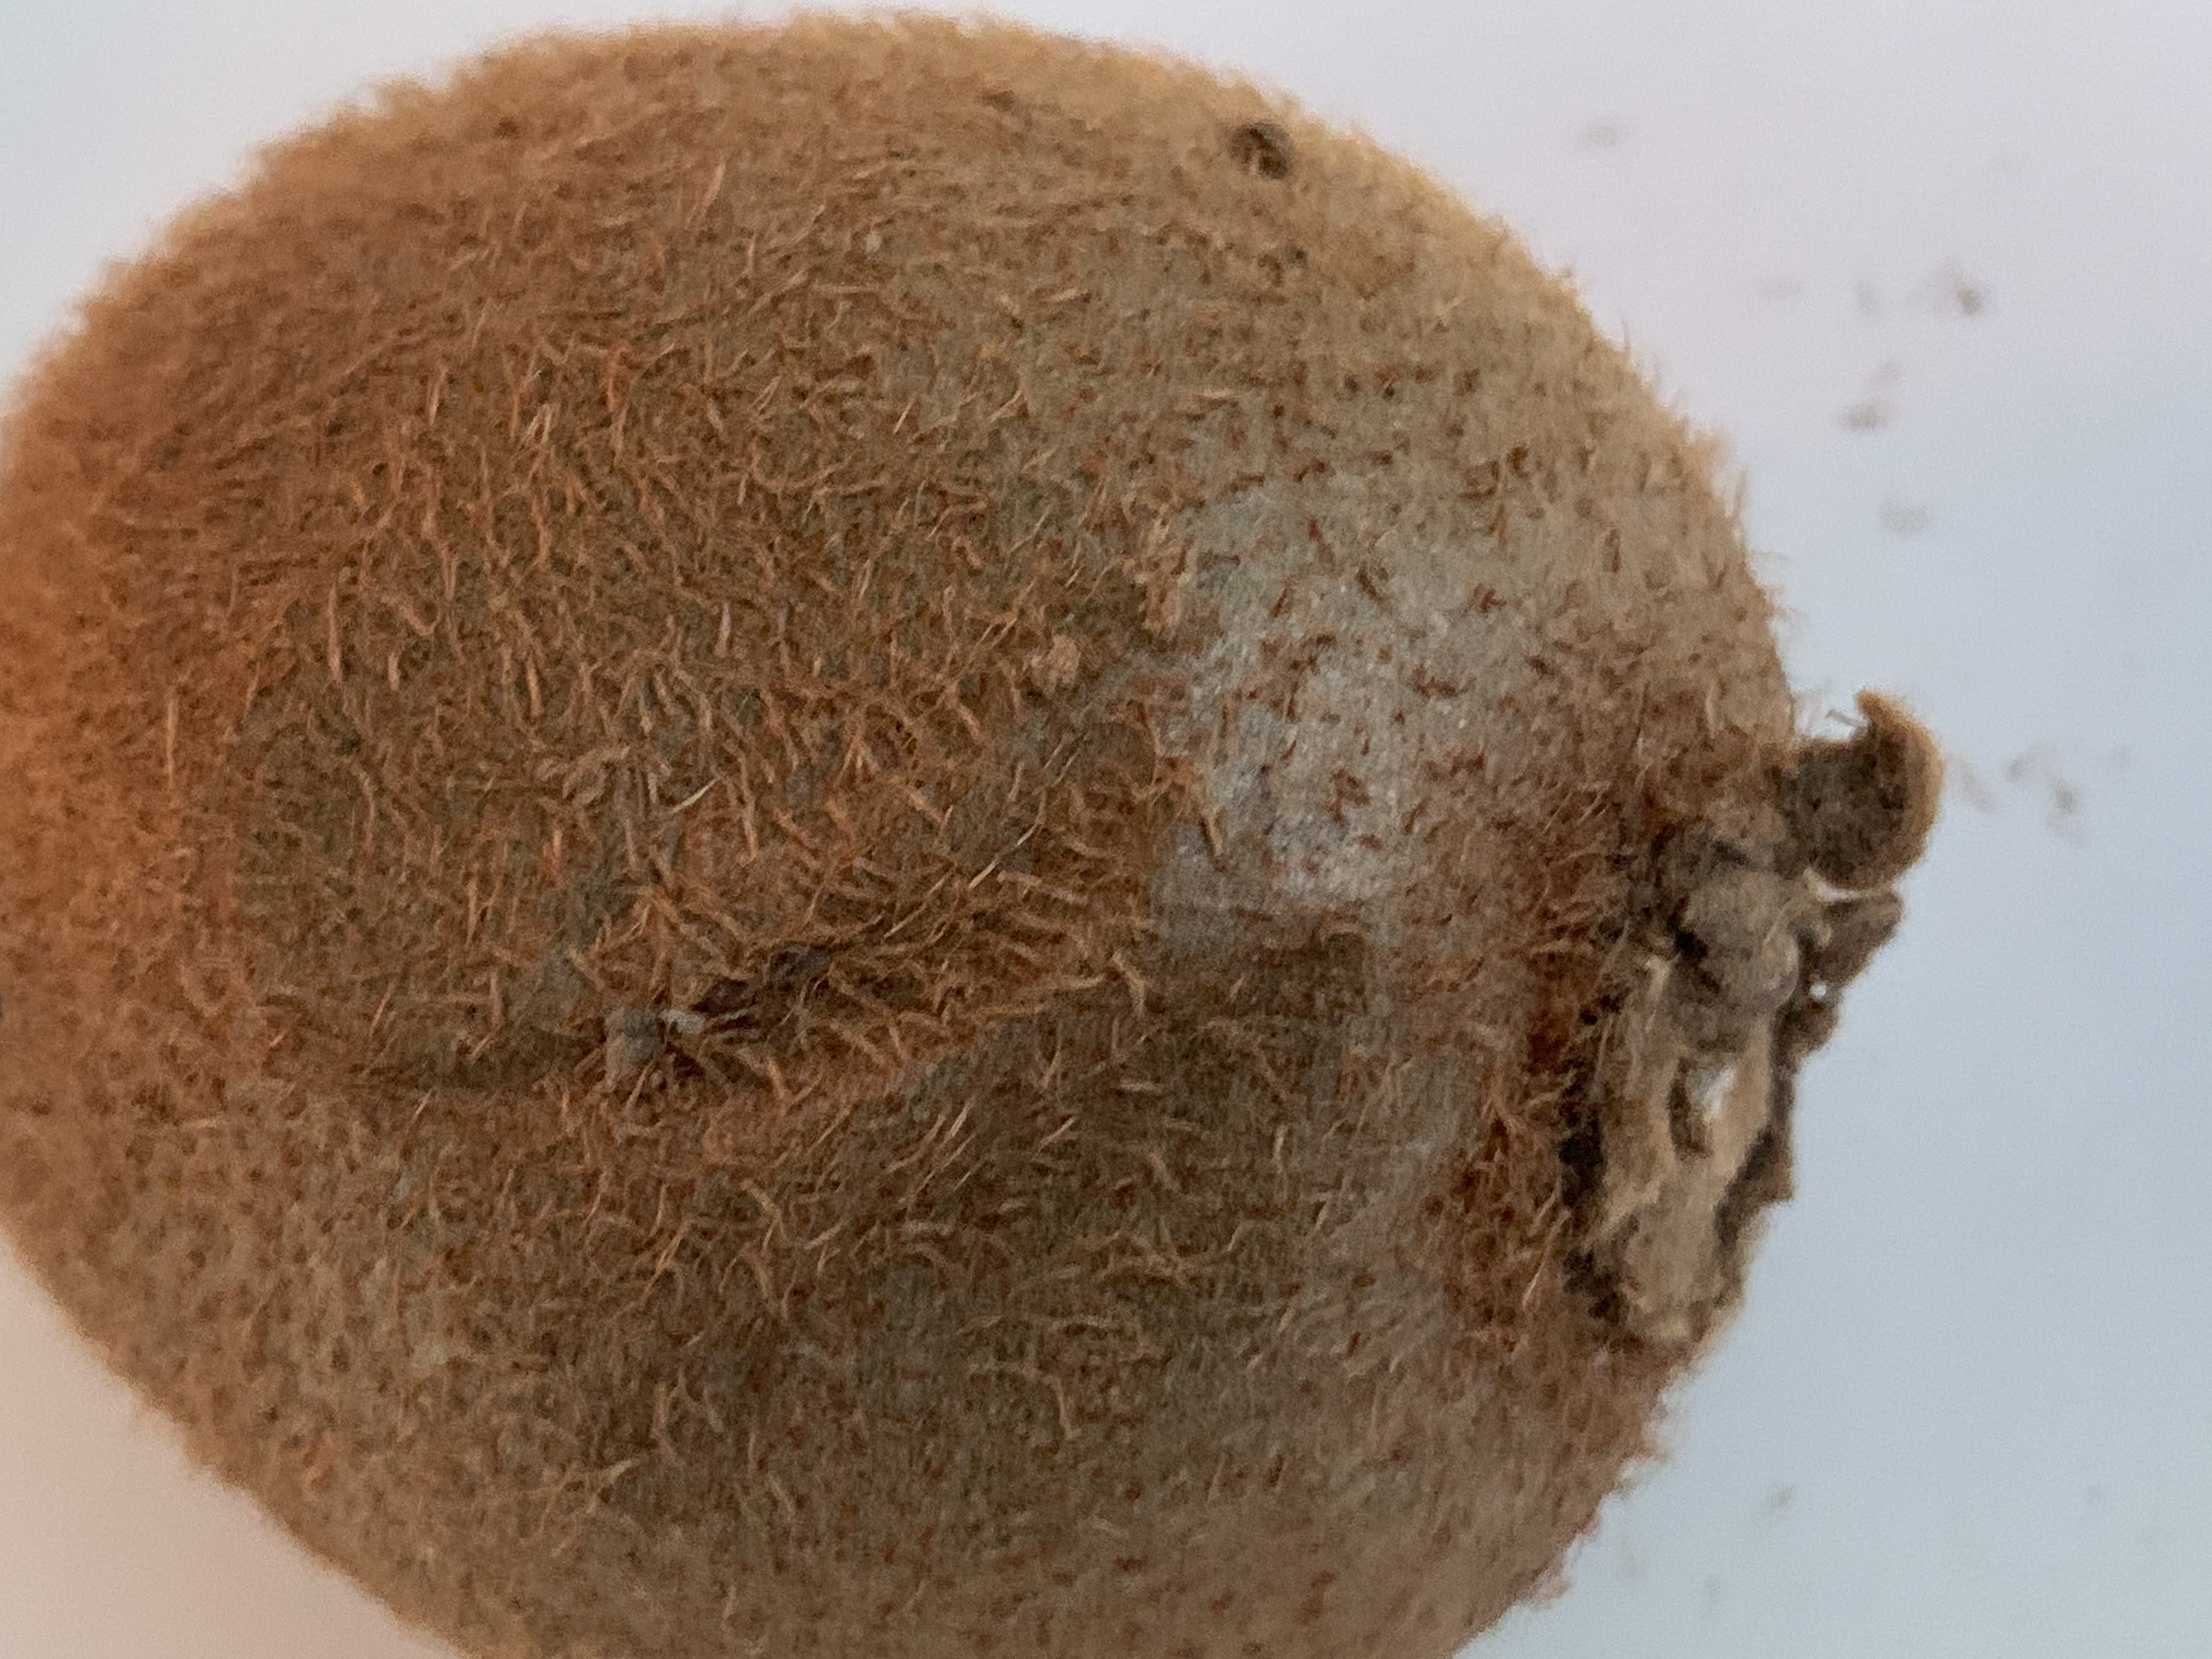kiwi: (9, 14, 1951, 1659)
